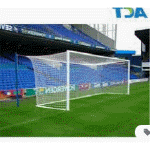goals: (30, 48, 133, 113)
